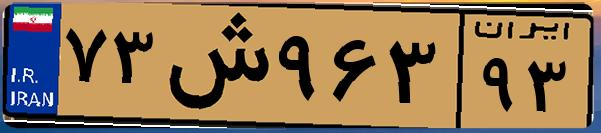3: (385, 28, 445, 110), (525, 38, 570, 115), (110, 28, 158, 98)
6: (330, 28, 385, 110)
7: (57, 26, 110, 100)
9: (270, 28, 330, 110), (475, 38, 525, 113)
ش: (158, 12, 270, 120)
